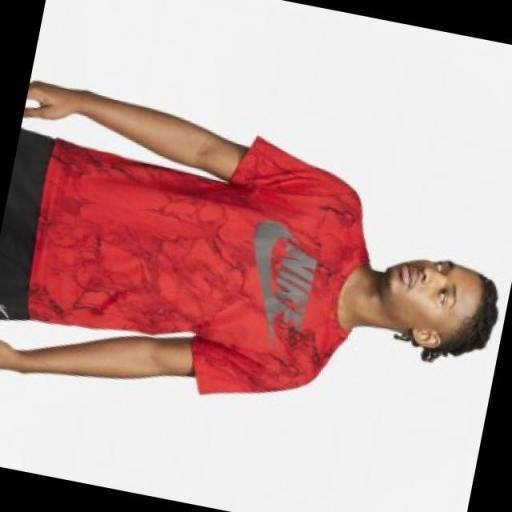Nike: (234, 215, 292, 337), (266, 241, 320, 333)
